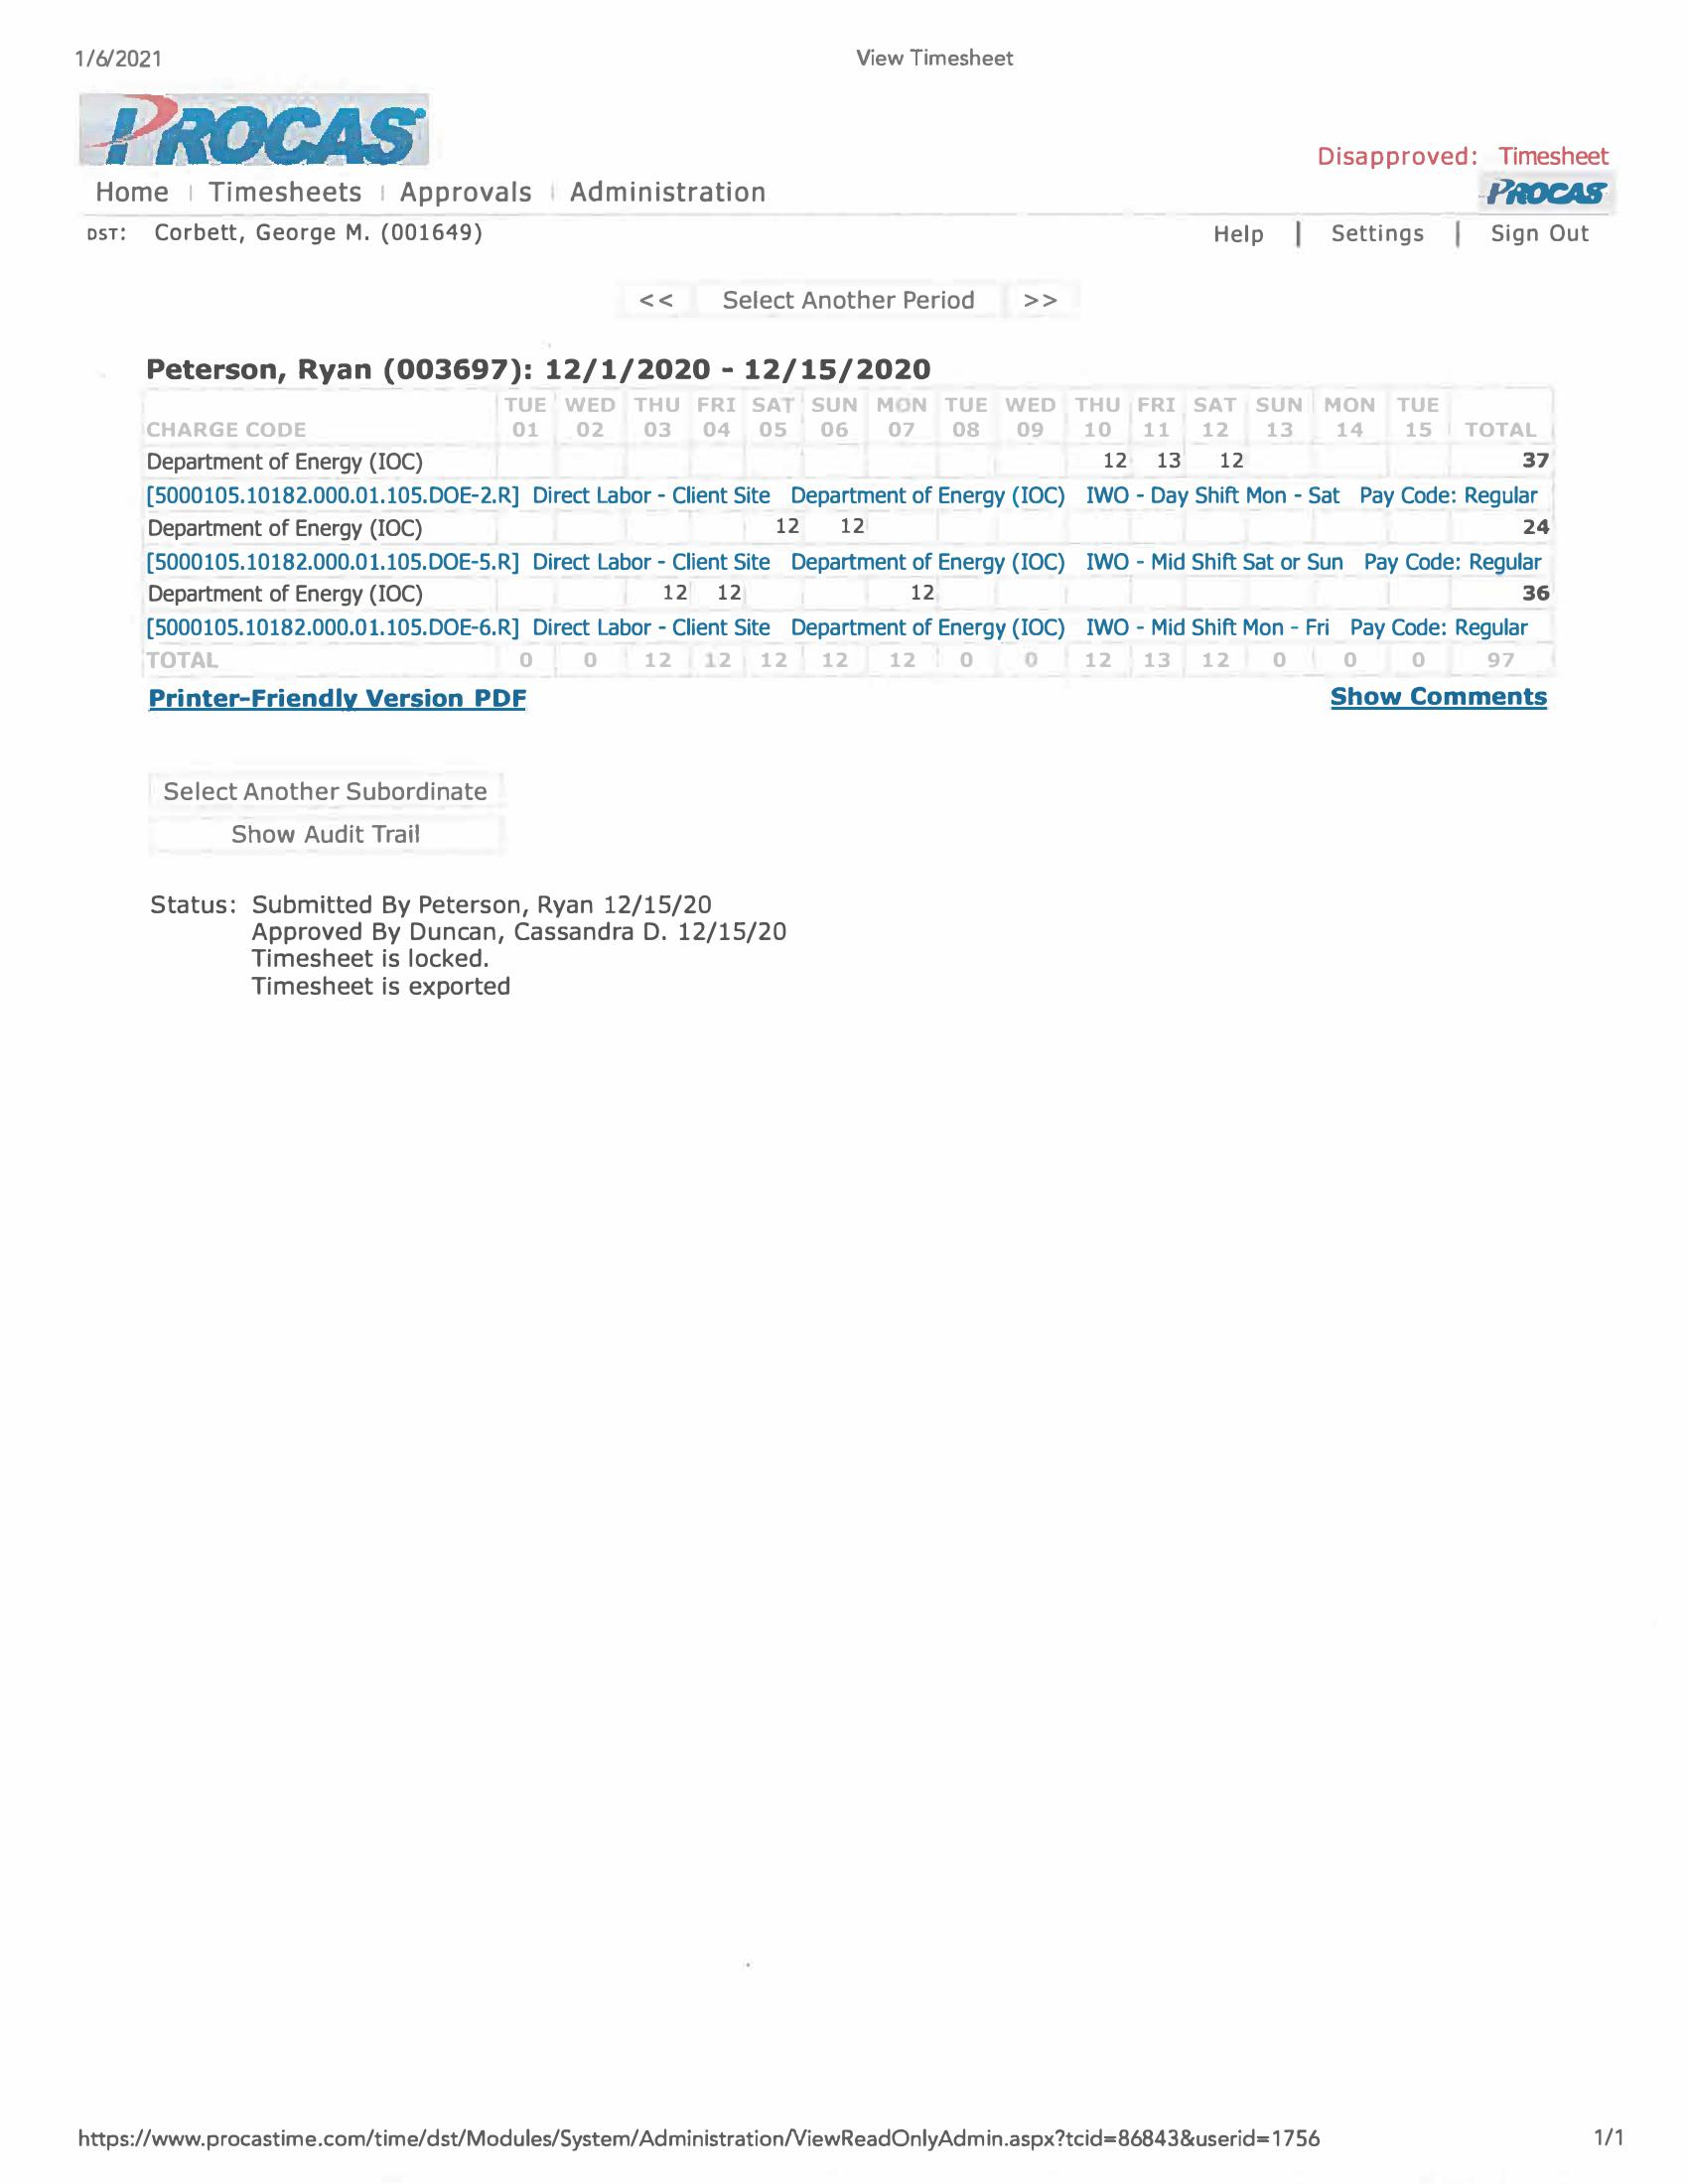table: (138, 386, 1578, 681)
